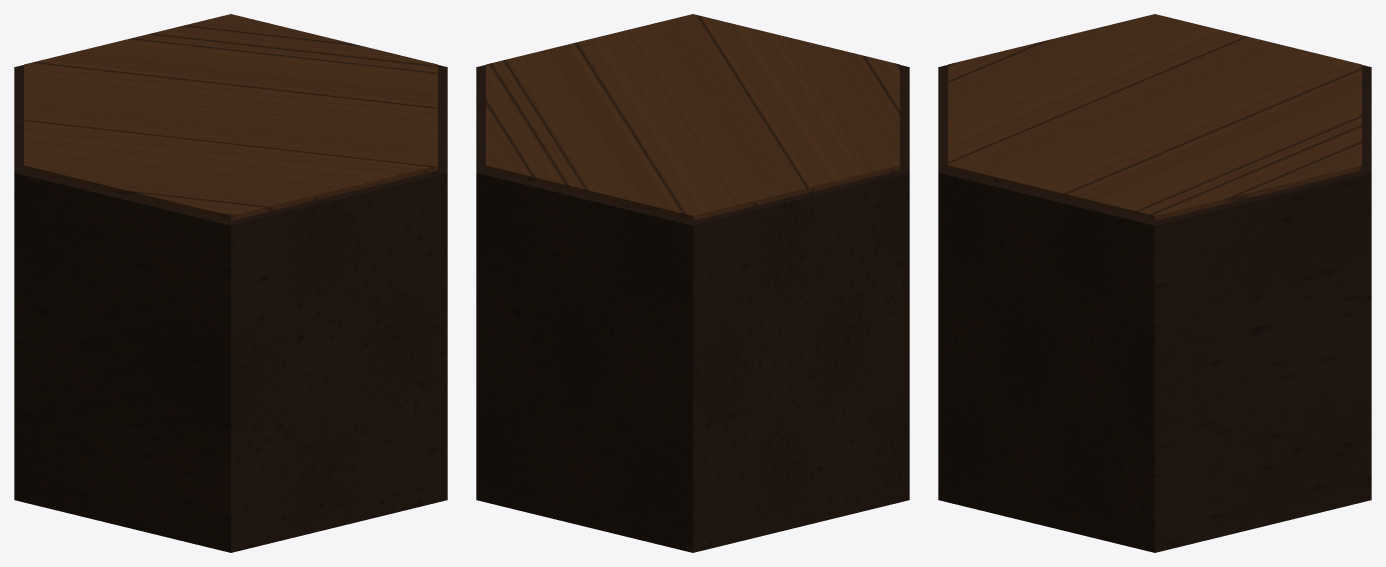
File: PROP-C06900B3BF02_lod2.glb
3 views of the same model, side by side, from view 1: azimuth 30°, elevation 25°; view 2: azimuth 150°, elevation 25°; view 3: azimuth 270°, elevation 25° (orthographic).
Parts seen in each view (by area): view 1: stump.001, cut_growth_rings.001; view 2: stump.001, cut_growth_rings.001; view 3: stump.001, cut_growth_rings.001.
Boxes of the visible parts, x1=… form: stump.001: x1=14, y1=65, x2=447, y2=552; cut_growth_rings.001: x1=24, y1=14, x2=437, y2=220; stump.001: x1=476, y1=65, x2=909, y2=552; cut_growth_rings.001: x1=486, y1=14, x2=899, y2=220; stump.001: x1=938, y1=65, x2=1371, y2=552; cut_growth_rings.001: x1=948, y1=14, x2=1361, y2=220.
Size of the model in its own units: 0.9 by 0.66 by 0.7794.
Materials: 2 (2 with a texture image).
